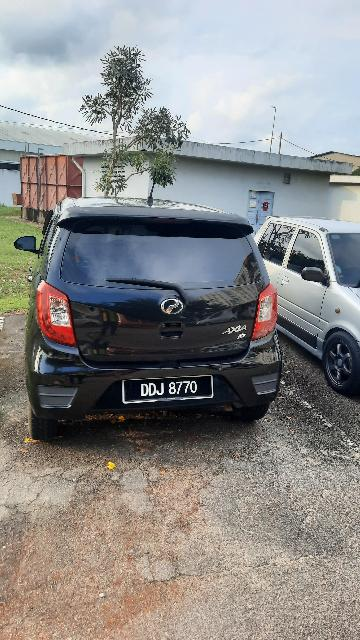License_Plate: (115, 374, 220, 407)
car: (11, 200, 286, 452)
